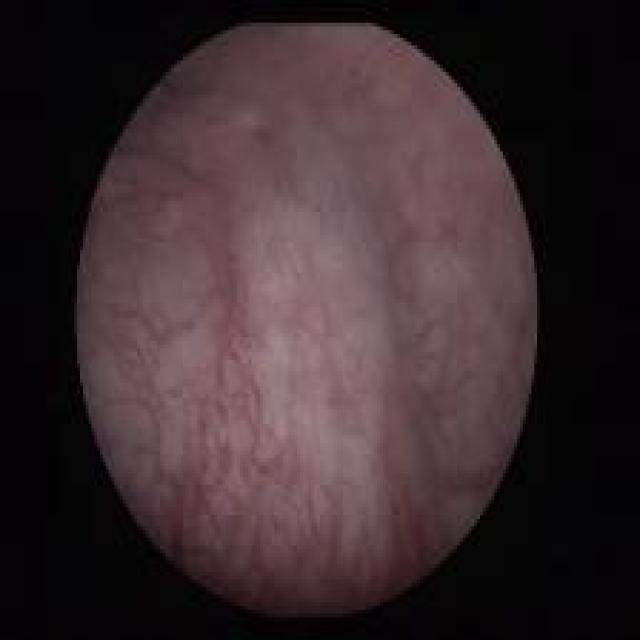blur: (76, 24, 537, 616)
